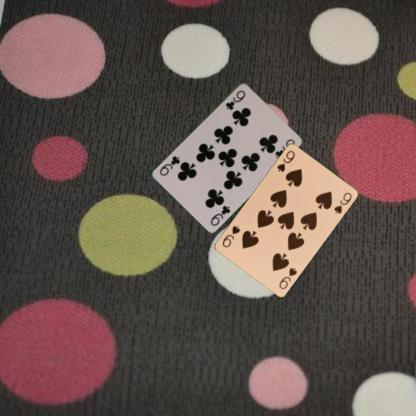9c: (207, 203, 232, 228), (223, 87, 247, 111)
9s: (276, 264, 298, 290), (274, 148, 296, 172)
